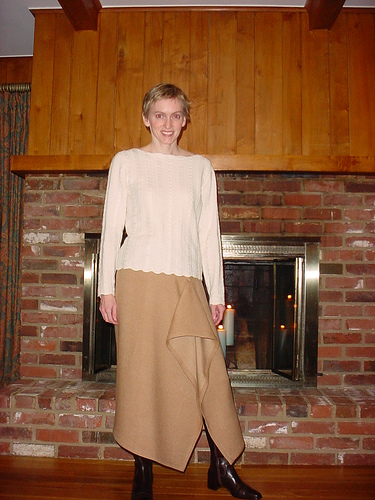without_mask: (142, 93, 189, 145)
